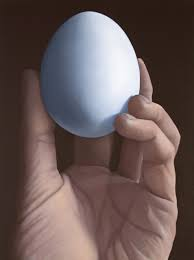egg: (41, 10, 141, 136)
